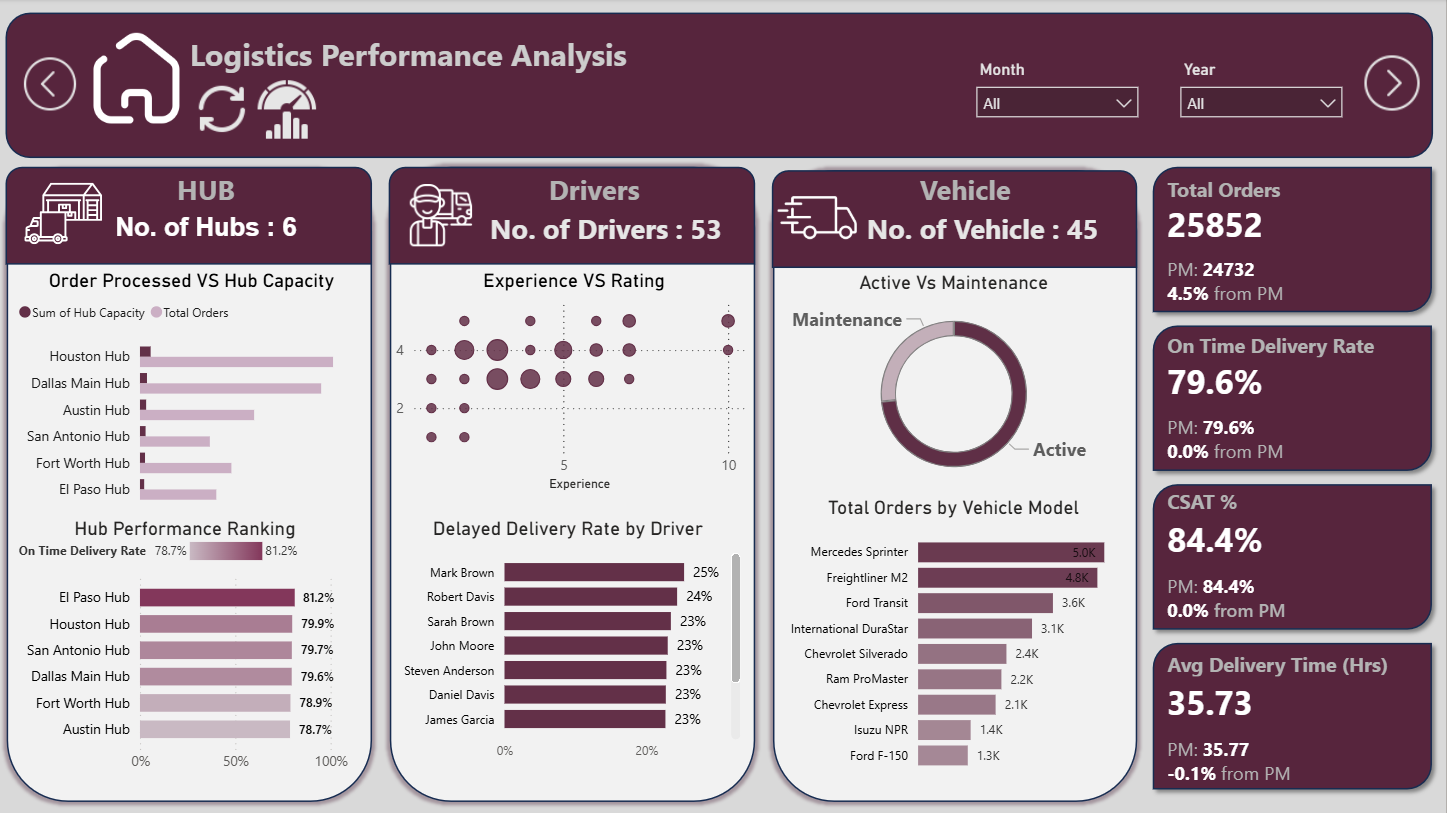

The page's visual inventory and layout, read from the dashboard file:
{"tool":"powerbi","page":{"name":"Overview","canvas":[1280,720],"ordinal":1},"visuals":[{"type":"barChart","title":"Hub Performance Ranking","fields":{"Category":["Hubs.HubName"],"Y":["-Measures.On Time Delivery Rate"]},"box":[16.3,457,303.5,233.7],"z":0},{"type":"clusteredBarChart","title":"Order Processed VS Hub Capacity","fields":{"Category":["Hubs.HubName"],"Y":["Sum(Hubs.Hub Capacity)","-Measures.Total Orders"]},"box":[15.6,238.5,315.2,218.1],"z":1000},{"type":"scatterChart","title":"Experience VS Rating ","fields":{"X":["Drivers.Experience Years"],"Y":["Drivers.Performance Rating"],"Size":["CountNonNull(Drivers.Experience Years)1"]},"box":[348.8,238.5,324.8,200.1],"z":2000},{"type":"barChart","title":"Delayed Delivery Rate by Driver","fields":{"Y":["_Measures.Delayed Delivery Rate"],"Category":["Drivers.DriverName"]},"box":[348.8,456.6,314,224.1],"z":3000},{"type":"clusteredBarChart","fields":{"Category":["Vehicles.Vehicle Model"],"Y":["_Measures.Total Orders."]},"box":[686.4,438.4,318.5,252],"z":4000},{"type":"textbox","box":[24,146.2,324.8,49.1],"z":5000},{"type":"advanceCardE03760C5AB684758B56AA29F9E6C257B","fields":{"mainMeasure":["_Measures.No of Hubs"]},"box":[67.8,171.3,236.8,60.9],"z":6000},{"type":"cardVisual","fields":{"Data":["Drivers.NO of Drivers"]},"box":[393.1,171.4,291.2,59.9],"z":7000},{"type":"textbox","box":[394.3,146.2,268.5,50.3],"z":8000},{"type":"image","box":[338,163,110.3,55.1],"z":9000},{"type":"textbox","box":[725.1,146.2,268.5,50.3],"z":10000},{"type":"cardVisual","fields":{"Data":["_Measures.No of Drivers"]},"box":[725.1,171.4,292.4,59.9],"z":11000},{"type":"image","box":[678.4,161.8,93.5,62.3],"z":12000},{"type":"slicer","fields":{"Values":["Date Table.Year"]},"box":[1035.7,49.1,163,73.6],"z":13000},{"type":"slicer","fields":{"Values":["Date Table.Month"]},"box":[855.2,49.5,163,72.8],"z":14000},{"type":"cardVisual","title":"Card Total Orders","fields":{"Data":["_Measures.Total Orders"]},"box":[1017.5,147.5,262.5,130],"z":15000},{"type":"image","box":[23.8,71.3,215.5,283.6],"z":16000},{"type":"cardVisual","title":"Card On Time Delivery Rate","fields":{"Data":["_Measures.On Time Delivery Rate"]},"box":[1017.5,283.8,250,136.2],"z":17000},{"type":"cardVisual","title":"Card CSAT","fields":{"Data":["_Measures.CSAT %"]},"box":[1017.5,420,250,145],"z":18000},{"type":"cardVisual","title":"Card Avg Delivery Time","fields":{"Data":["_Measures.Avg Delivery Time (Hrs)"]},"box":[1017.5,565,250,142.5],"z":19000},{"type":"image","box":[175,71.3,50.8,50.8],"z":20000},{"type":"textbox","box":[166.5,24.5,399.6,61.3],"z":21000},{"type":"image","box":[84,23.8,82.4,91.9],"z":22000},{"type":"image","box":[3.2,49.1,90.3,50.7],"z":23000},{"type":"image","box":[1205.7,40.3,52.6,66.6],"z":24000},{"type":"donutChart","title":"Active Vs Maintenance","fields":{"Category":["Vehicles.Vehicle Status"],"Y":["_Measures.Total Vehicles"]},"box":[687,240.1,317.2,198],"z":25000},{"type":"image","box":[225,68.1,65,58.6],"z":26000}]}

Visuals, with their boxes in screenshot pixels (x1, y1, x2, y2), scaled from the page's 1280x720 canvas onto the 1447x813 screenshot:
"Hub Performance Ranking" barChart: rect(18, 516, 362, 780)
"Order Processed VS Hub Capacity" clusteredBarChart: rect(18, 269, 374, 516)
"Experience VS Rating " scatterChart: rect(394, 269, 761, 495)
"Delayed Delivery Rate by Driver" barChart: rect(394, 516, 749, 769)
clusteredBarChart - Vehicles.Vehicle Model x _Measures.Total Orders.: rect(776, 495, 1136, 780)
textbox: rect(27, 165, 394, 221)
advanceCardE03760C5AB684758B56AA29F9E6C257B - _Measures.No of Hubs: rect(77, 193, 344, 262)
cardVisual - Drivers.NO of Drivers: rect(444, 194, 774, 261)
textbox: rect(446, 165, 749, 222)
image: rect(382, 184, 507, 246)
textbox: rect(820, 165, 1123, 222)
cardVisual - _Measures.No of Drivers: rect(820, 194, 1150, 261)
image: rect(767, 183, 873, 253)
slicer - Date Table.Year: rect(1171, 55, 1355, 139)
slicer - Date Table.Month: rect(967, 56, 1151, 138)
"Card Total Orders" cardVisual: rect(1150, 167, 1446, 313)
image: rect(27, 81, 271, 401)
"Card On Time Delivery Rate" cardVisual: rect(1150, 320, 1433, 474)
"Card CSAT" cardVisual: rect(1150, 474, 1433, 638)
"Card Avg Delivery Time" cardVisual: rect(1150, 638, 1433, 799)
image: rect(198, 81, 255, 138)
textbox: rect(188, 28, 640, 97)
image: rect(95, 27, 188, 131)
image: rect(4, 55, 106, 113)
image: rect(1363, 46, 1422, 121)
"Active Vs Maintenance" donutChart: rect(777, 271, 1135, 495)
image: rect(254, 77, 328, 143)
